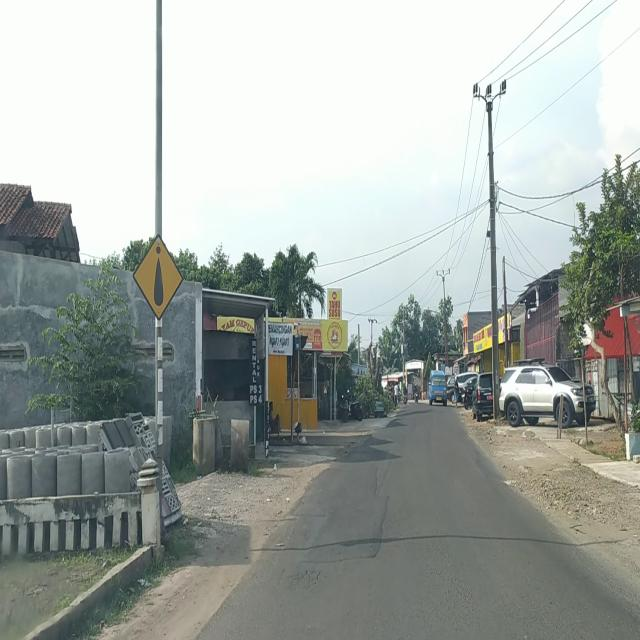Drain Hole: (285, 566, 329, 596)
